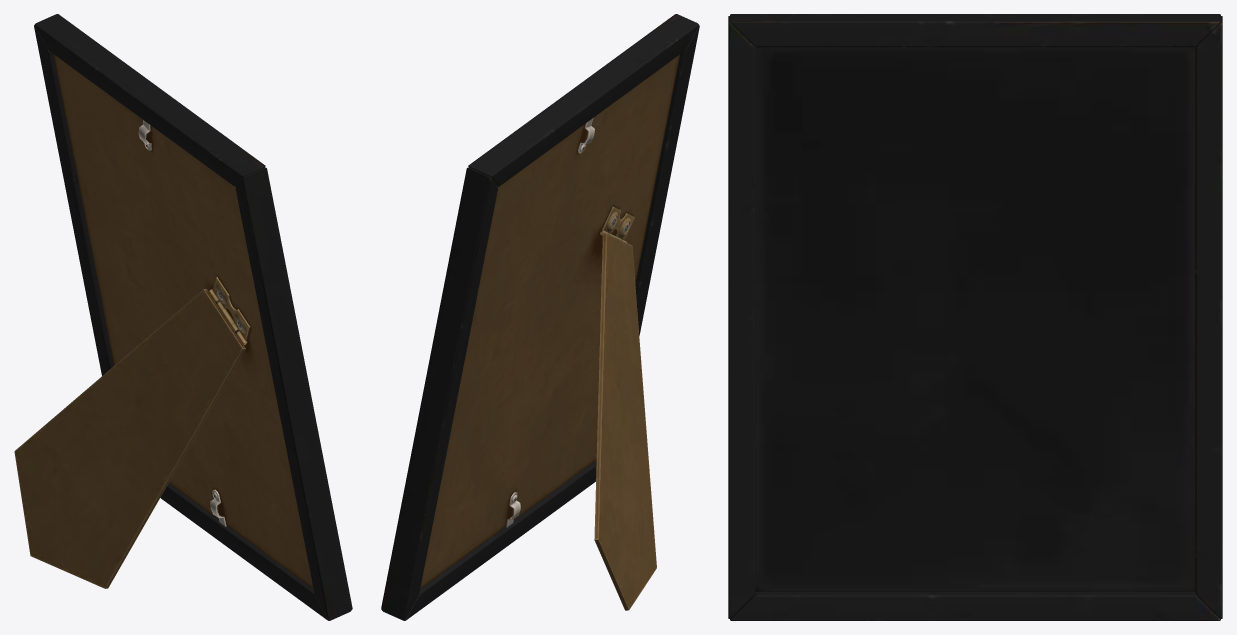
The model's file is standing_picture_frame_01.glb.
3 renders of one model, left to right at view 1: azimuth 30°, elevation 25°; view 2: azimuth 150°, elevation 25°; view 3: azimuth 270°, elevation 25°, orthographic. The views are drawn at different scales.
Parts seen in each view (by area): view 1: standing_picture_frame_01; view 2: standing_picture_frame_01; view 3: standing_picture_frame_01.
Part boxes in pixels (x1,y1,x2,y2): standing_picture_frame_01: (14, 14, 352, 620); standing_picture_frame_01: (381, 14, 699, 620); standing_picture_frame_01: (728, 14, 1222, 620).
Size of the model in its own units: 0.1003 by 0.2497 by 0.2008.
3 materials, 3 textured.
